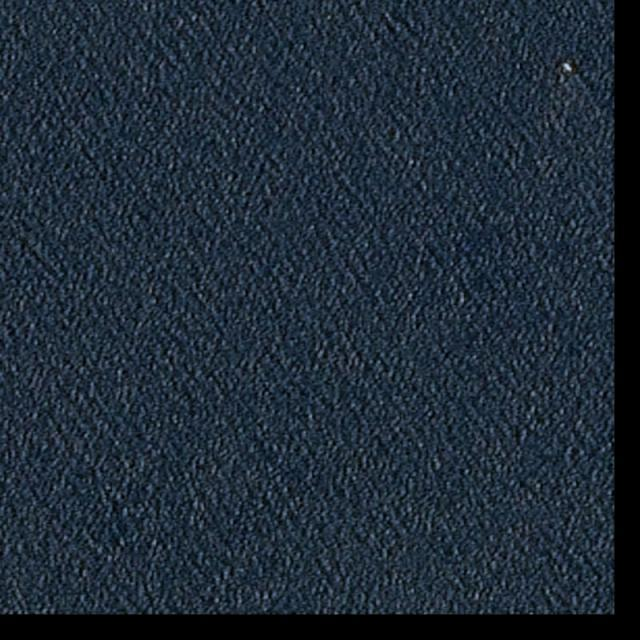ship: (562, 62, 574, 74)
